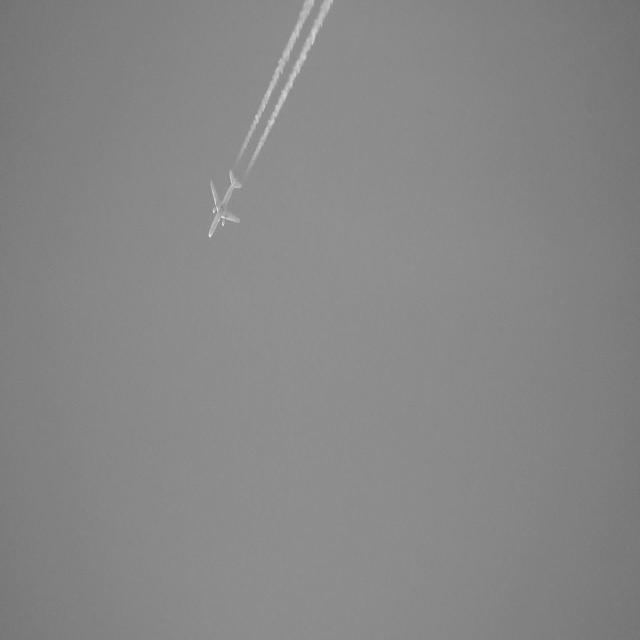aeroplane: (207, 166, 244, 246)
